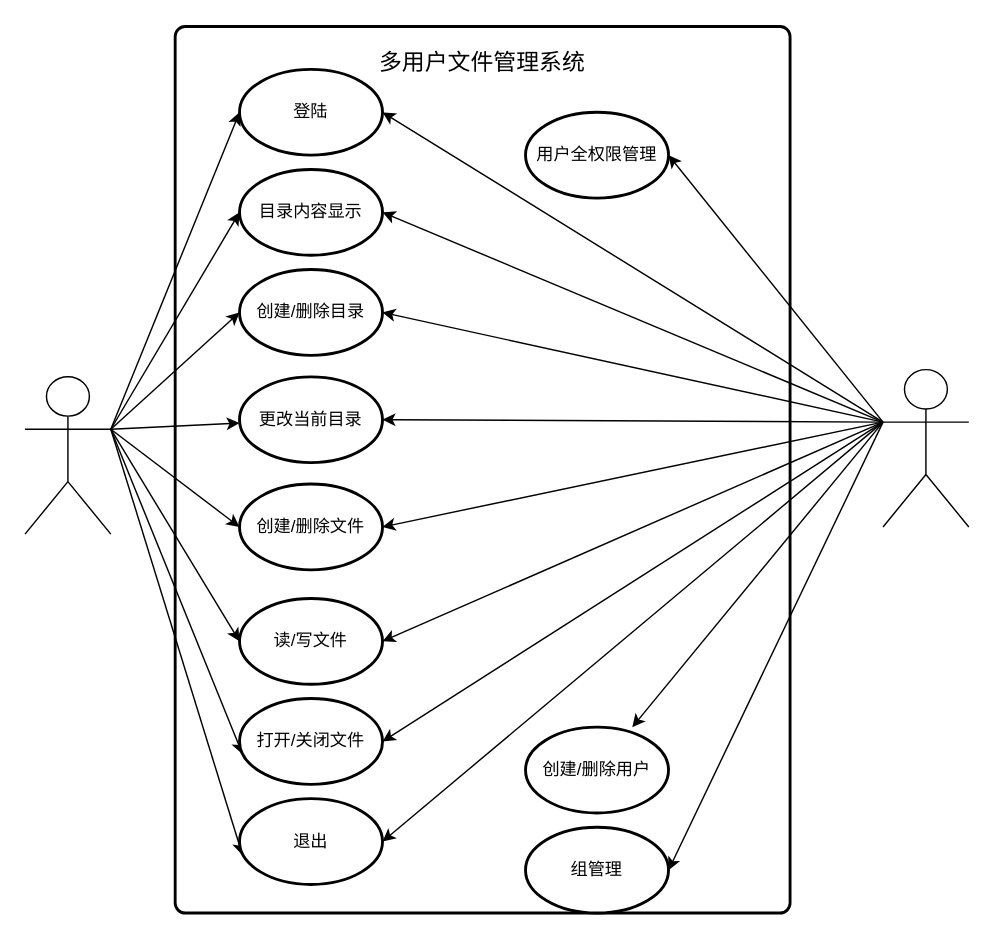
Some shapes in this 994 by 938 pixel diagram are drawn without their labels. The centre of each missing label's shape, as x and y in pixels:
普通用户: (x=67, y=454)
管理员: (x=925, y=447)
